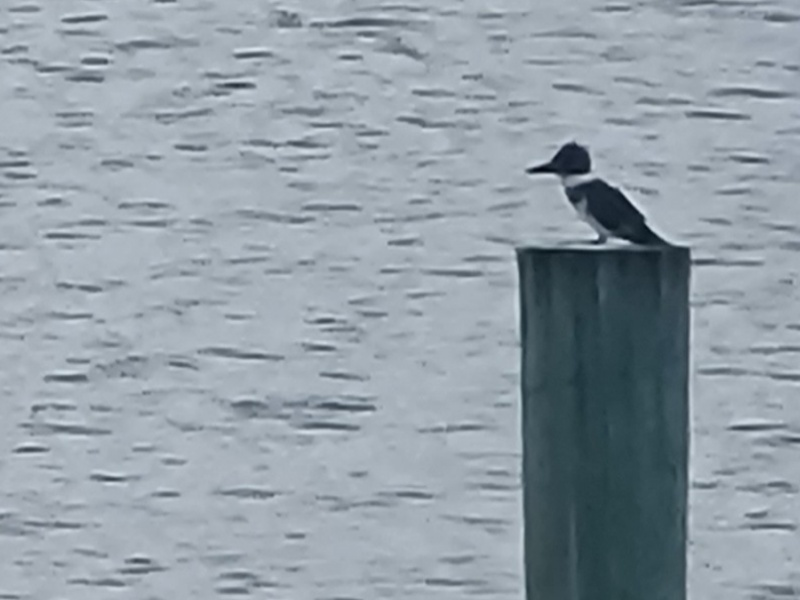kingfisher: (522, 137, 680, 258)
